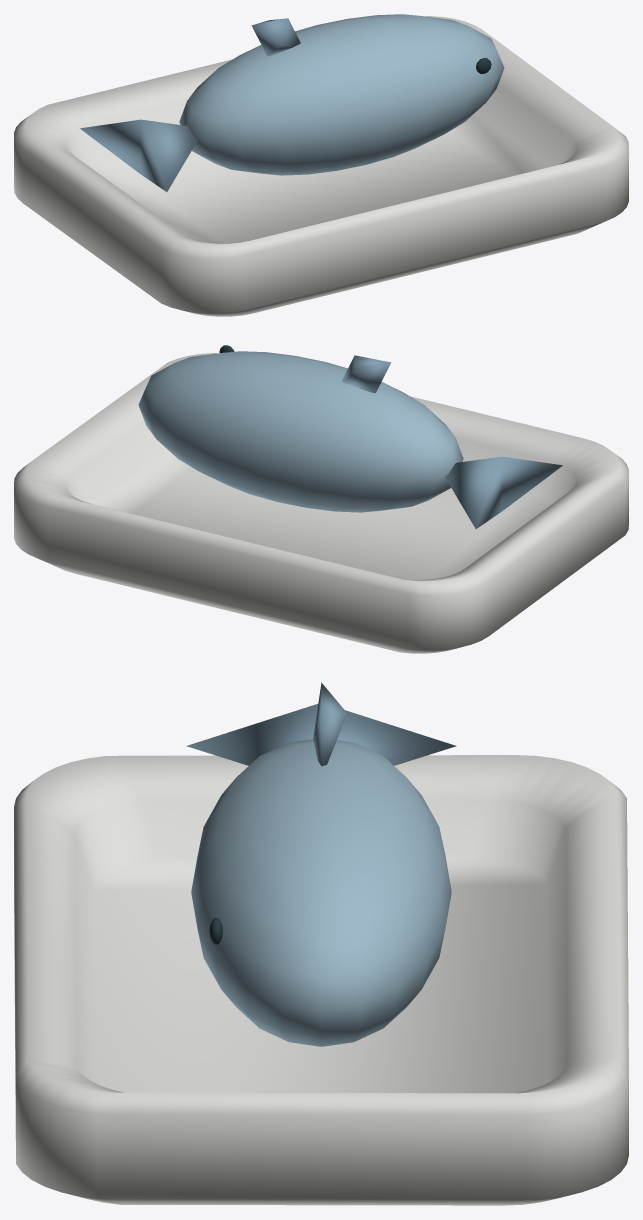
File: fish.glb
3 renders of one model, top to bottom at view 1: azimuth 30°, elevation 25°; view 2: azimuth 150°, elevation 25°; view 3: azimuth 270°, elevation 25°, orthographic. The views are drawn at different scales.
Parts seen in each view (by area): view 1: body, fish, tail, fin; view 2: body, fish, tail, fin; view 3: body, fish, tail, fin.
Part boxes in pixels (x1,y1,x2,y2): body: (14,16,628,316); fish: (179,14,504,175); tail: (80,119,197,191); fin: (251,18,300,56); body: (14,353,628,653); fish: (138,351,463,512); tail: (445,456,562,528); fin: (342,355,391,393); body: (14,755,628,1205); fish: (191,739,451,1046); tail: (186,704,456,765); fin: (313,682,347,766).
Size of the model in its own units: 0.8 by 0.33 by 0.59.
